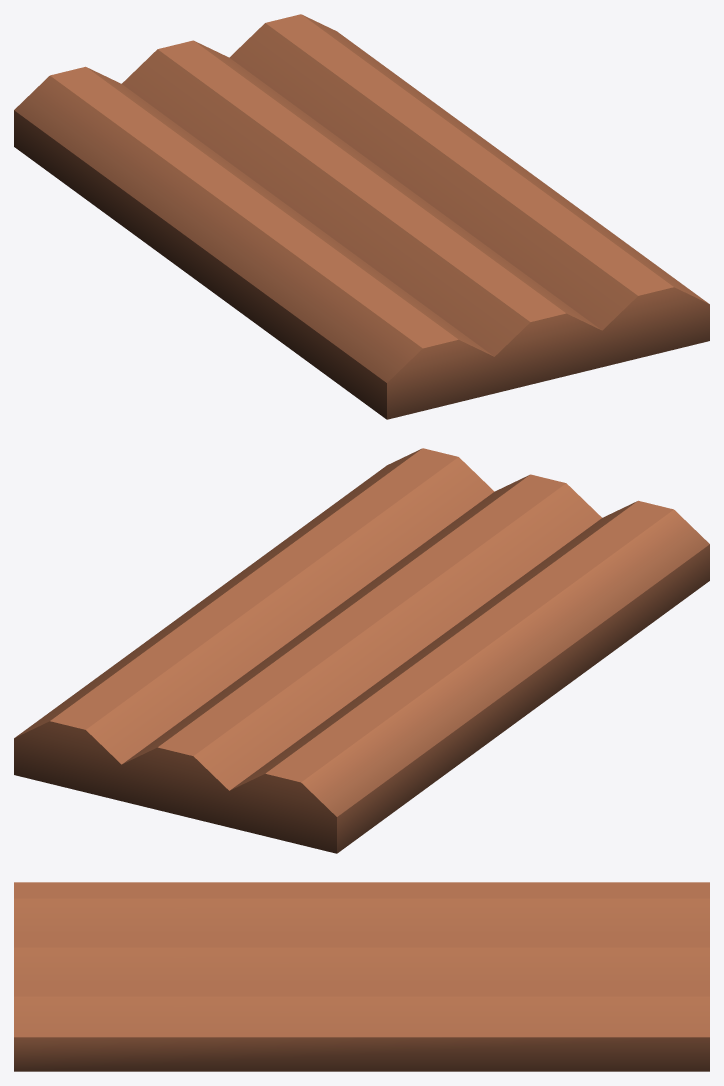
File: land garden.fbx
3 views of the same model, one above another, from view 1: azimuth 30°, elevation 25°; view 2: azimuth 150°, elevation 25°; view 3: azimuth 270°, elevation 25° (orthographic). The views are drawn at different scales.
Visible parts, largest first — view 1: land garden; view 2: land garden; view 3: land garden.
Boxes of the visible parts, x1,y1,x2,y2 form: land garden: [14, 14, 709, 419]; land garden: [14, 448, 709, 853]; land garden: [14, 882, 709, 1071].
Bounding box in the file's own units: 238 × 43.98 × 475.
